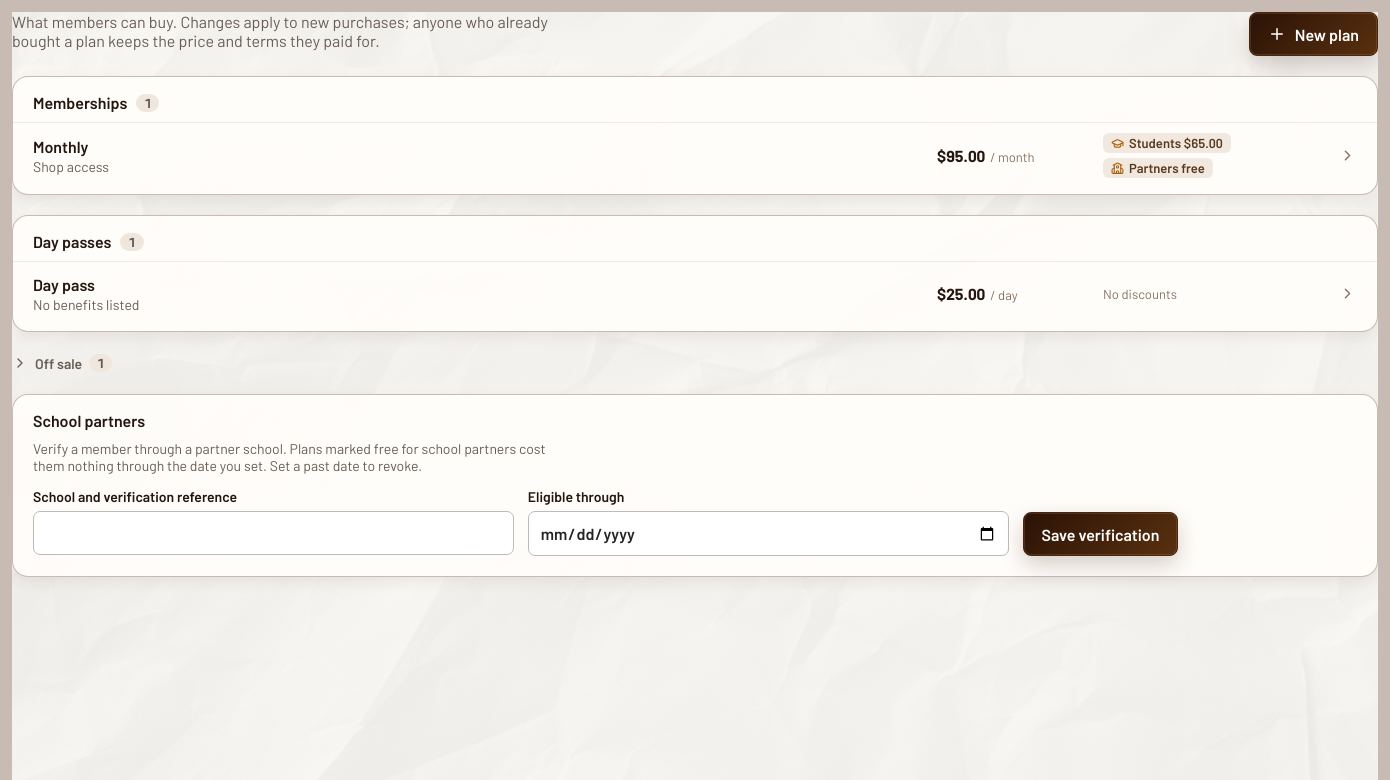
Test: lists plans by type, with discounts and off-sale plans tucked away
Check: the heading "Monthly" is shown, box [33,136,88,156]
Check: the text "Students $65.00" is shown, box [1103,133,1231,153]
Click the button "Off sale 1": coordinates (62, 363) [12,352,112,374]
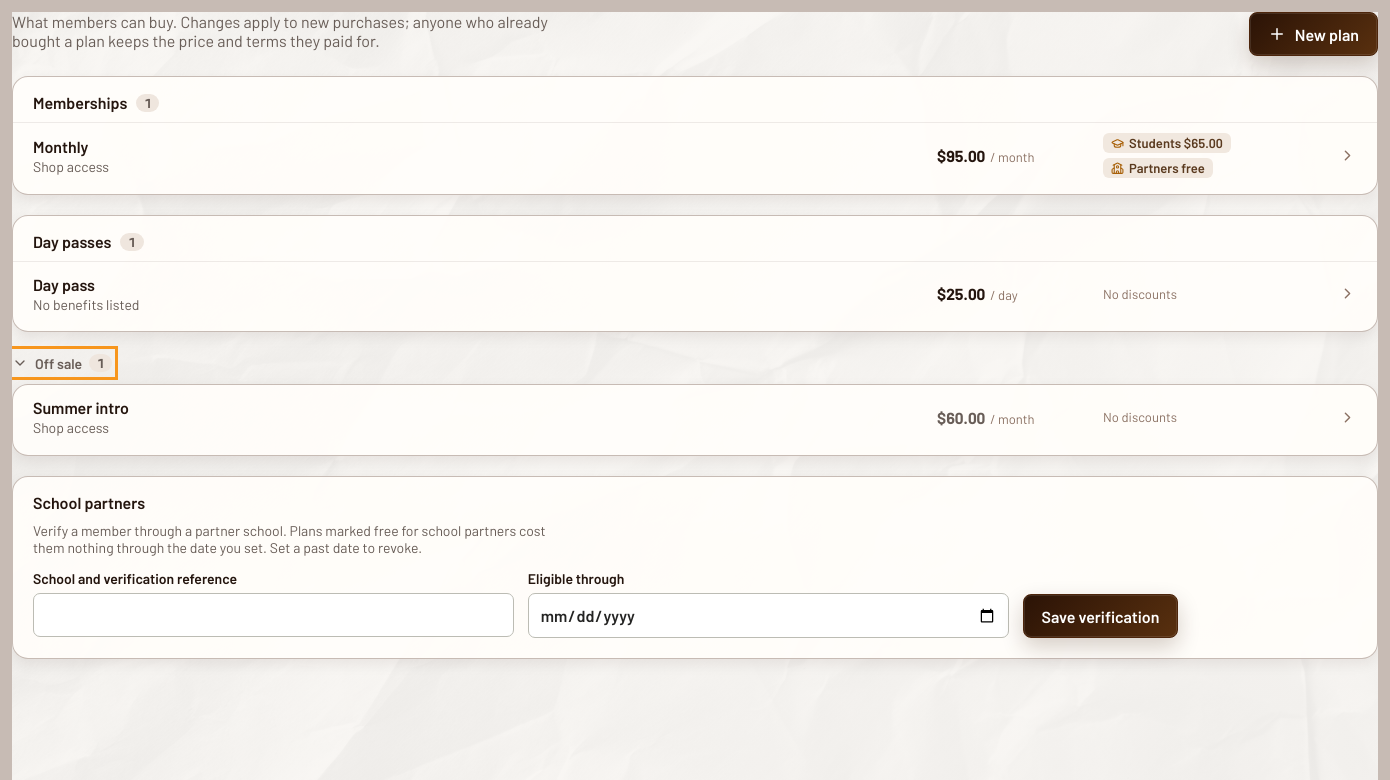
Check: the heading "Summer intro" is shown, box [33,398,129,417]
